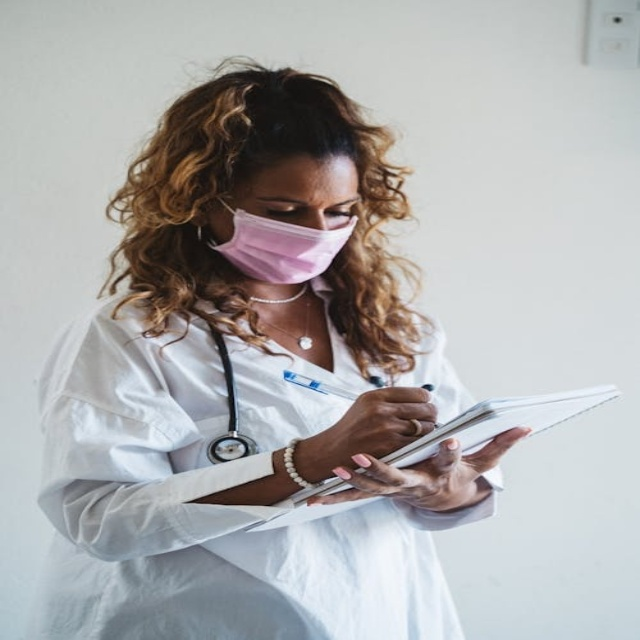Mascara: (202, 196, 357, 283)
Sin_gafas: (250, 187, 365, 224)
Sin_guantes: (287, 375, 445, 485), (327, 429, 528, 512)
